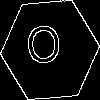O: (25, 25, 63, 73)
